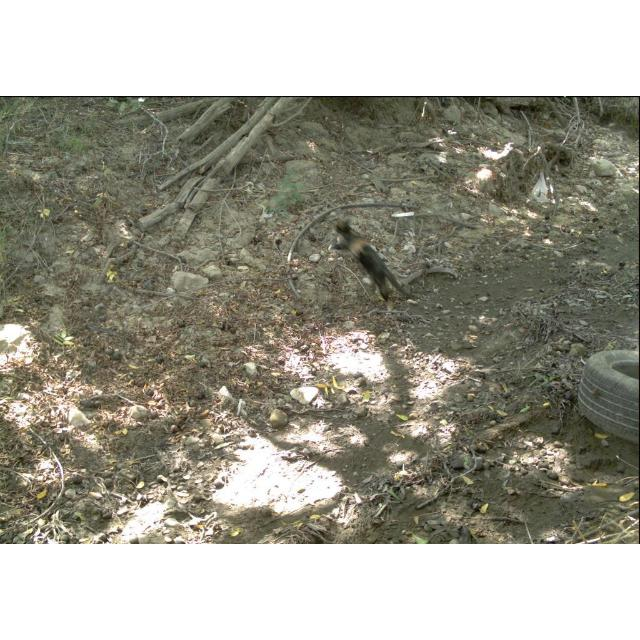animals: (329, 217, 419, 315)
